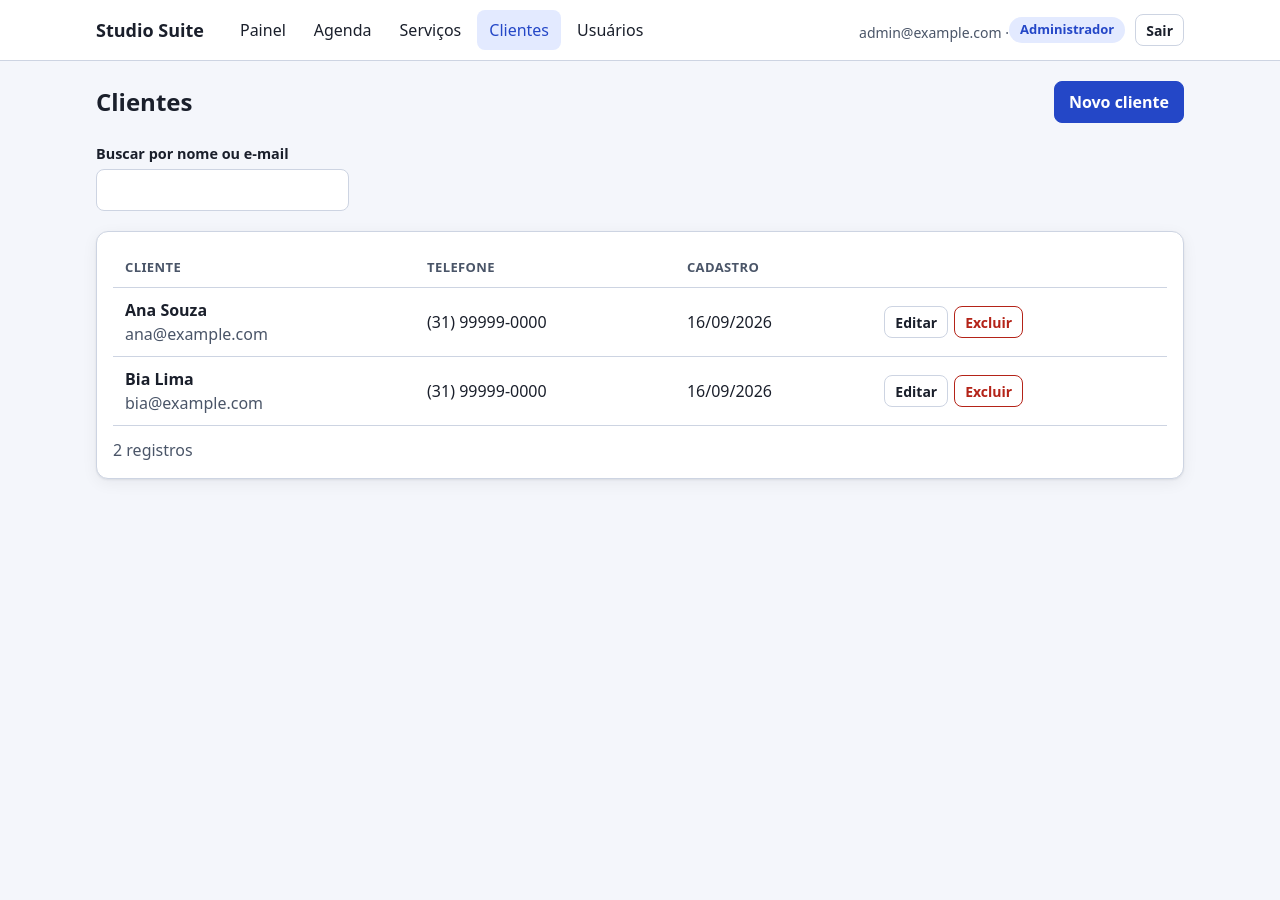
it: customers › creates a customer; the phone is sent as typed and stored as digits
The image size is (1280, 900).
Expected: the heading "Clientes" is shown, [96,87,192,117]
Expected: the text "Ana Souza" is shown, [125,299,207,321]
Step 1. Click the button "Novo cliente" → (1119, 102), box [1054,81,1184,123]
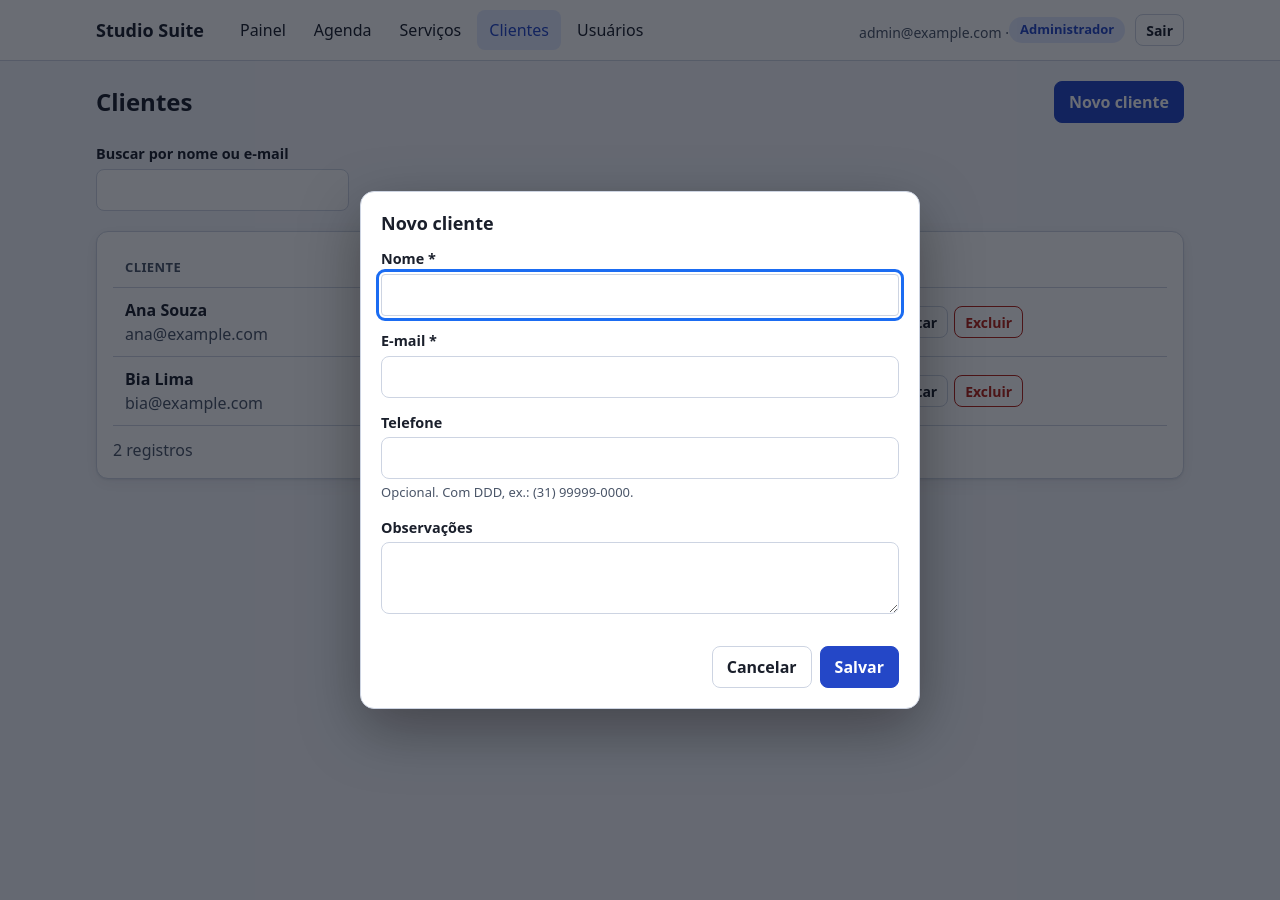
Step 2. Type "Carla Dias" into the field labelled "Nome *" → (640, 295), box [381,274,899,316]
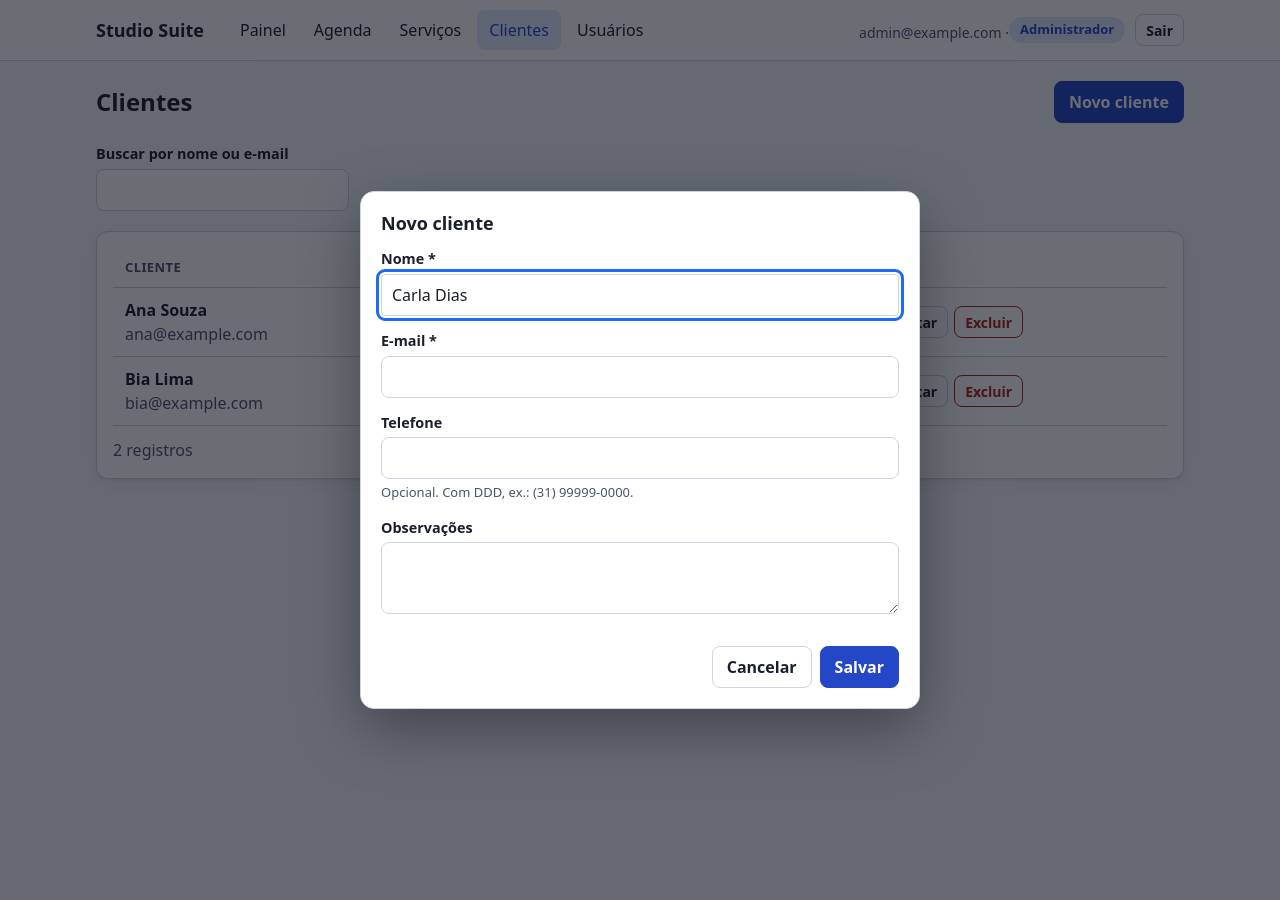
Step 3. Type "carla@example.com" into the field labelled "E-mail *" → (640, 376), box [381,356,899,398]
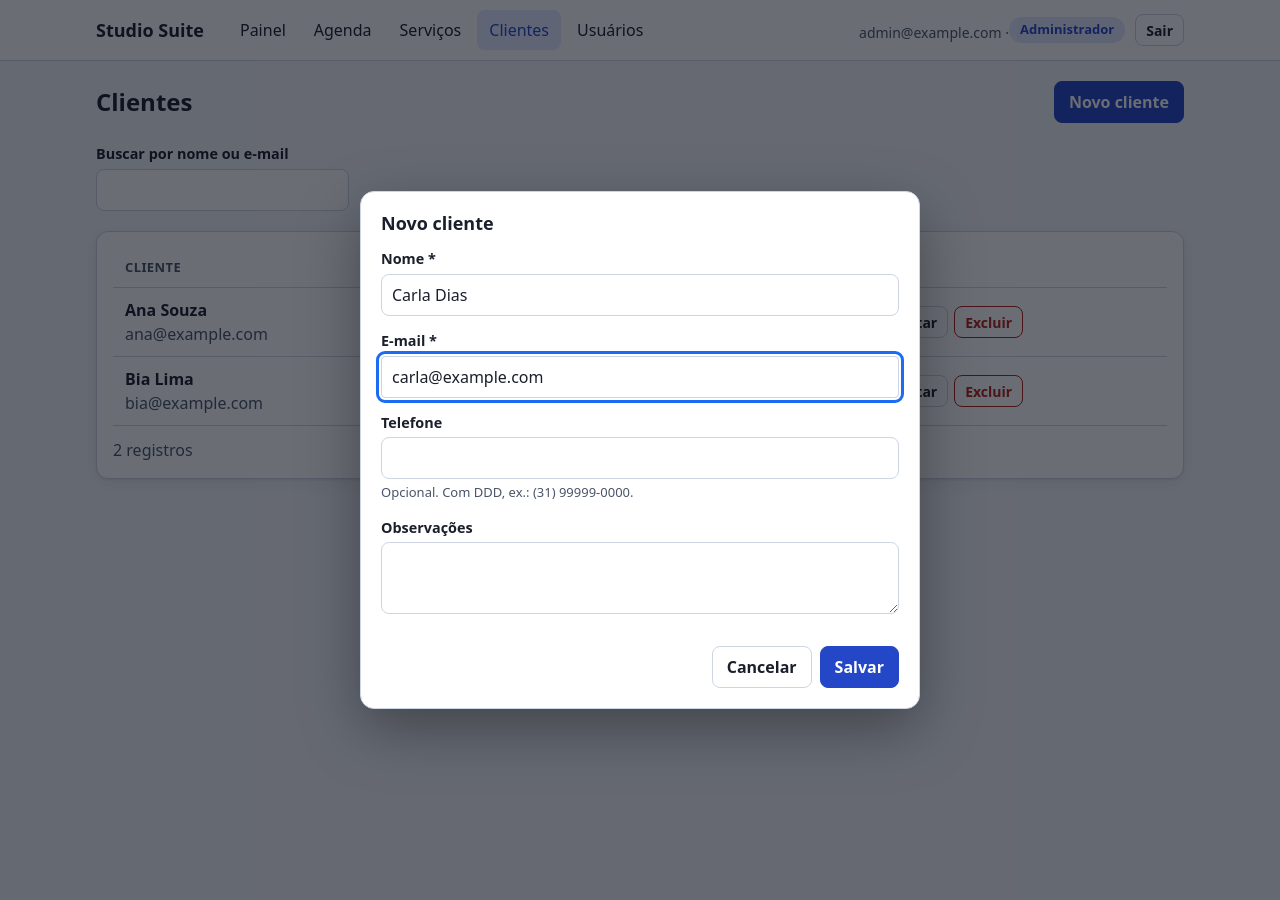
Step 4. Type "(31) 98888-7777" into the field labelled "Telefone" → (640, 458), box [381,437,899,479]
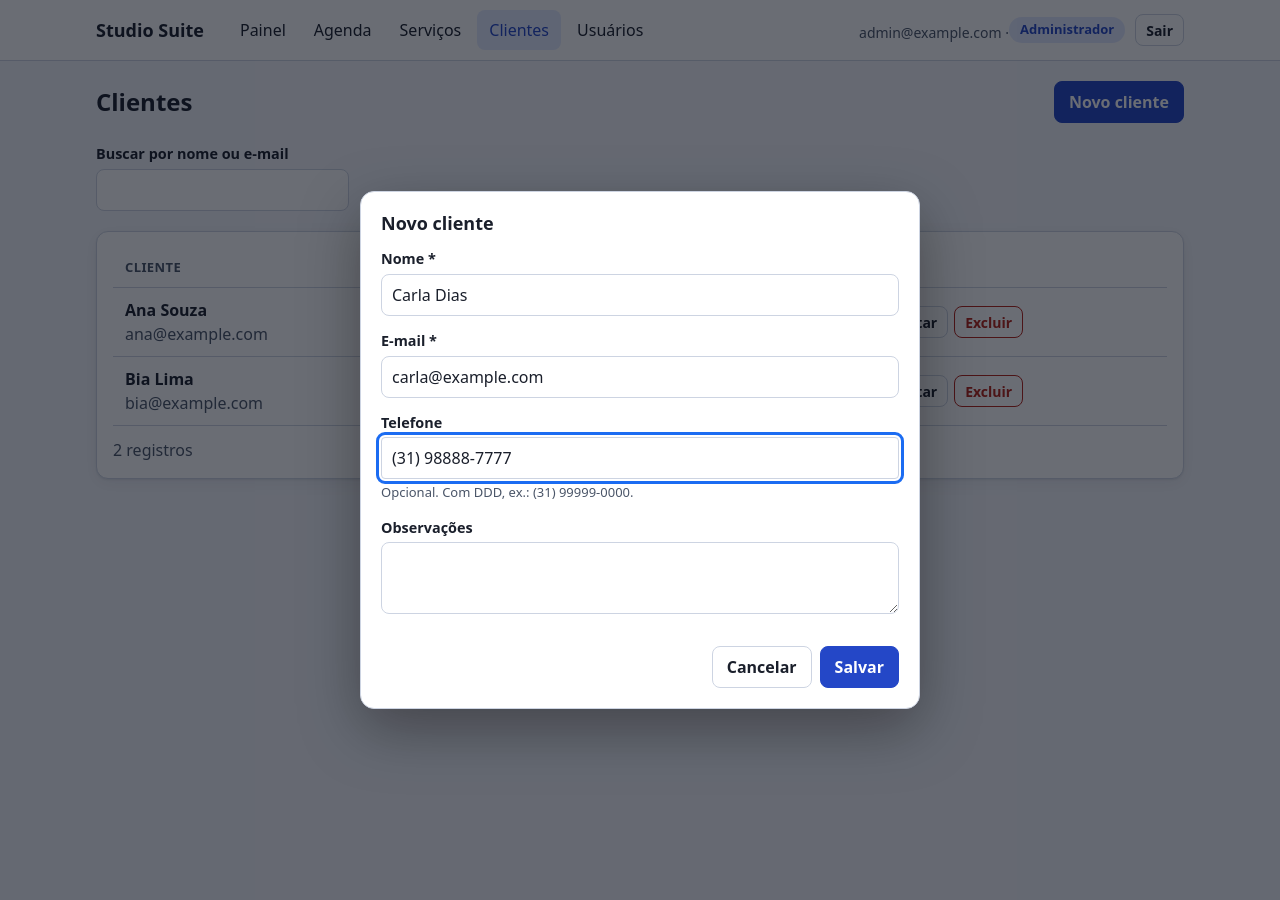
Step 5. Click the button "Salvar" → (859, 667), box [820,646,899,688]
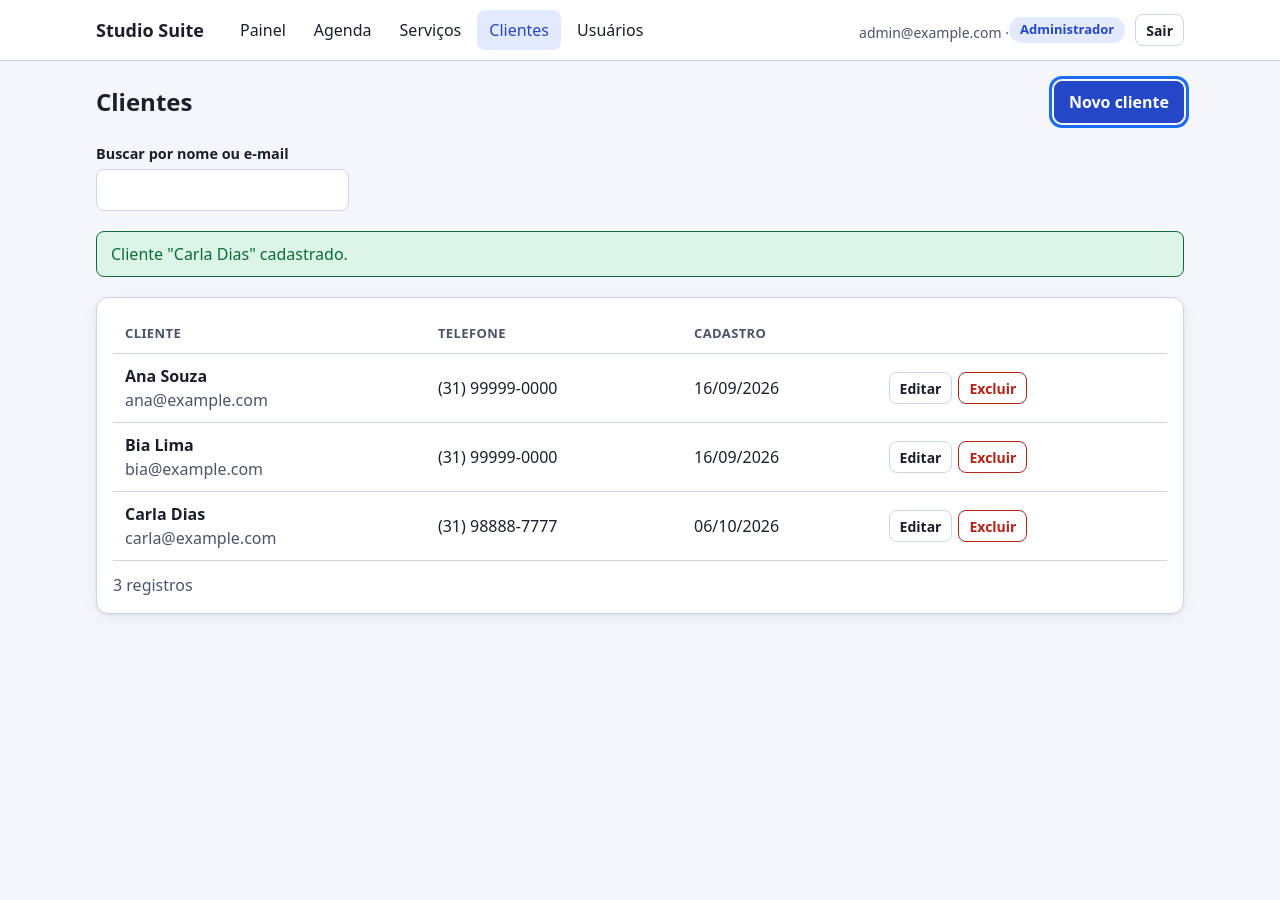
Now the message reads "Cliente \"Carla Dias\" cadastrado.", box [111,243,348,265]
Now the text "(31) 98888-7777" is shown, box [426,492,682,561]
